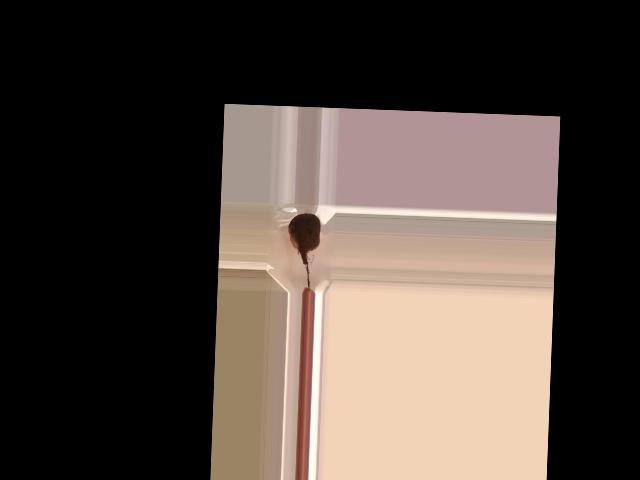beet: (285, 212, 320, 290)
